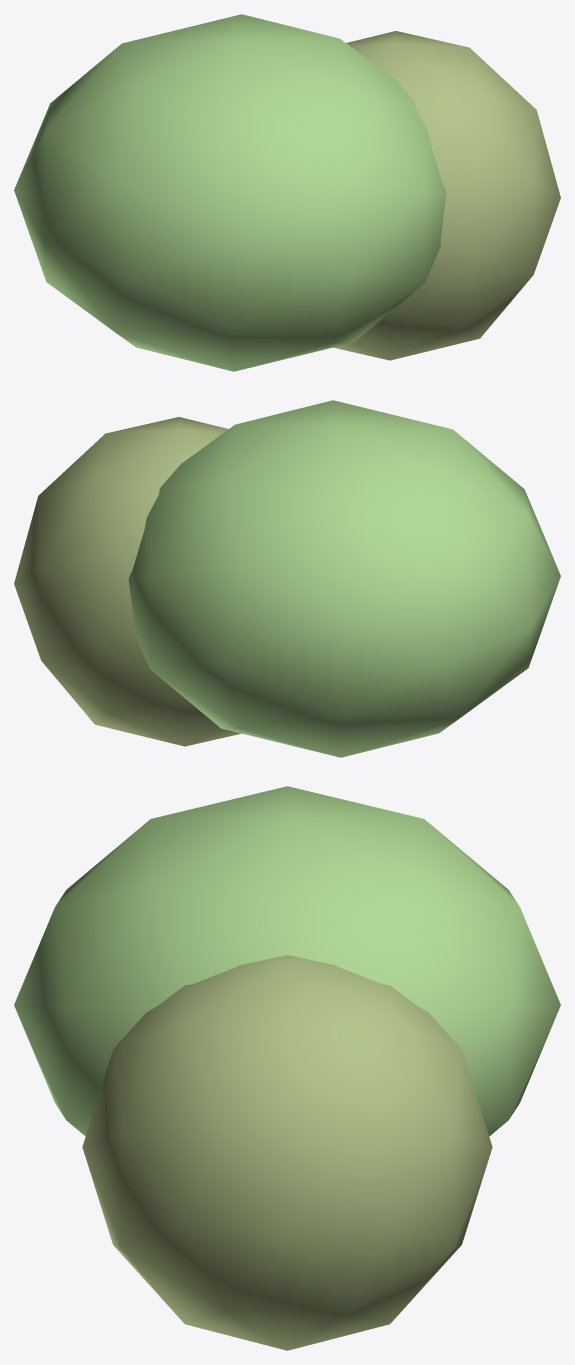
File: shrub_standard.glb
3 renders of one model, top to bottom at view 1: azimuth 30°, elevation 25°; view 2: azimuth 150°, elevation 25°; view 3: azimuth 270°, elevation 25°, orthographic. The views are drawn at different scales.
Parts seen in each view (by area): view 1: Canopy_green, Canopy_olive; view 2: Canopy_green, Canopy_olive; view 3: Canopy_olive, Canopy_green.
Part boxes in pixels (left/top/right/bottom): Canopy_green: left=14, top=14, right=446, bottom=371; Canopy_olive: left=334, top=31, right=560, bottom=360; Canopy_green: left=128, top=400, right=560, bottom=757; Canopy_olive: left=14, top=417, right=240, bottom=746; Canopy_olive: left=82, top=955, right=492, bottom=1350; Canopy_green: left=14, top=786, right=560, bottom=1136.
Size of the model in its own units: 1.02 by 0.68 by 0.8.
